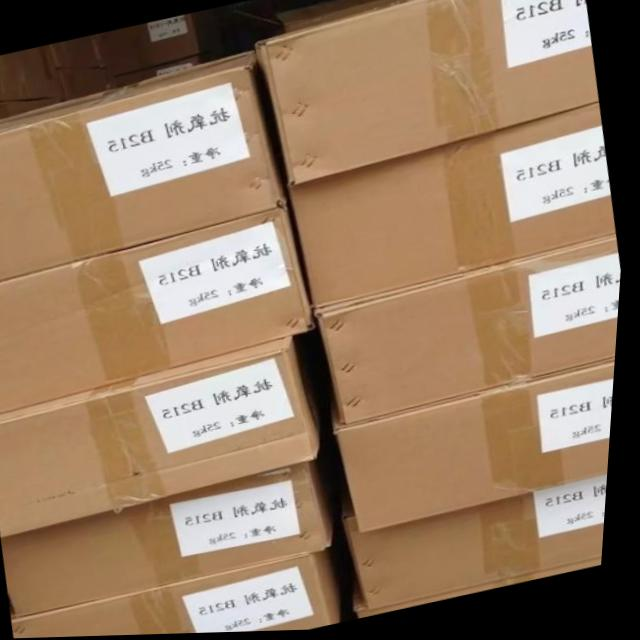box: (0, 50, 289, 283), (290, 107, 620, 309), (0, 207, 321, 413), (0, 337, 330, 536), (257, 0, 601, 186), (10, 444, 347, 618), (324, 240, 625, 426), (335, 365, 620, 534), (348, 478, 614, 613), (21, 550, 358, 639), (359, 562, 610, 620), (98, 10, 236, 79), (247, 0, 412, 47), (0, 35, 110, 100), (0, 97, 72, 119)
